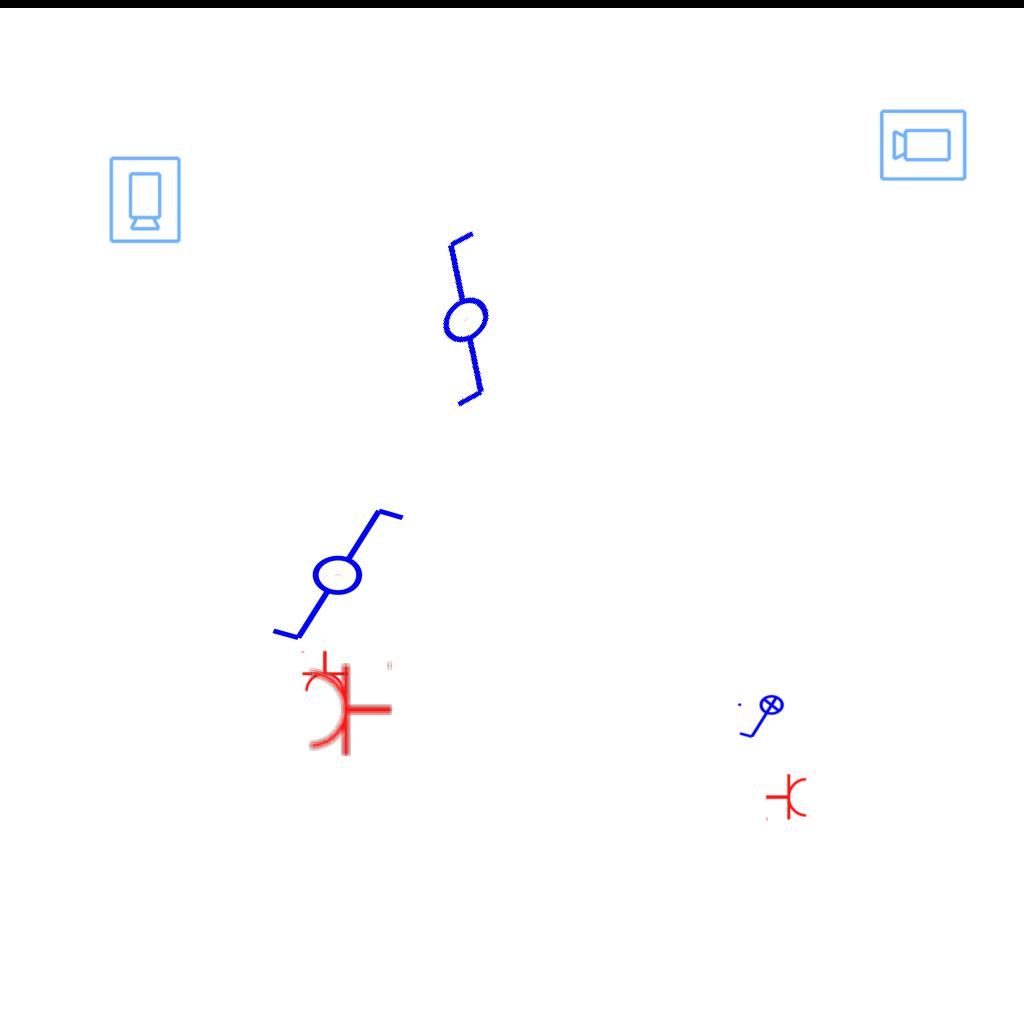Ausschalter_beleuchtet: (735, 694, 791, 742)
KFO_Kamera_mit_Festobjektiv: (878, 106, 969, 183), (106, 154, 183, 245)
Schukosteckdose_einfach: (307, 658, 394, 758), (765, 773, 808, 823), (299, 650, 349, 693)
Wechselschalter: (352, 217, 565, 431), (251, 501, 408, 645)
